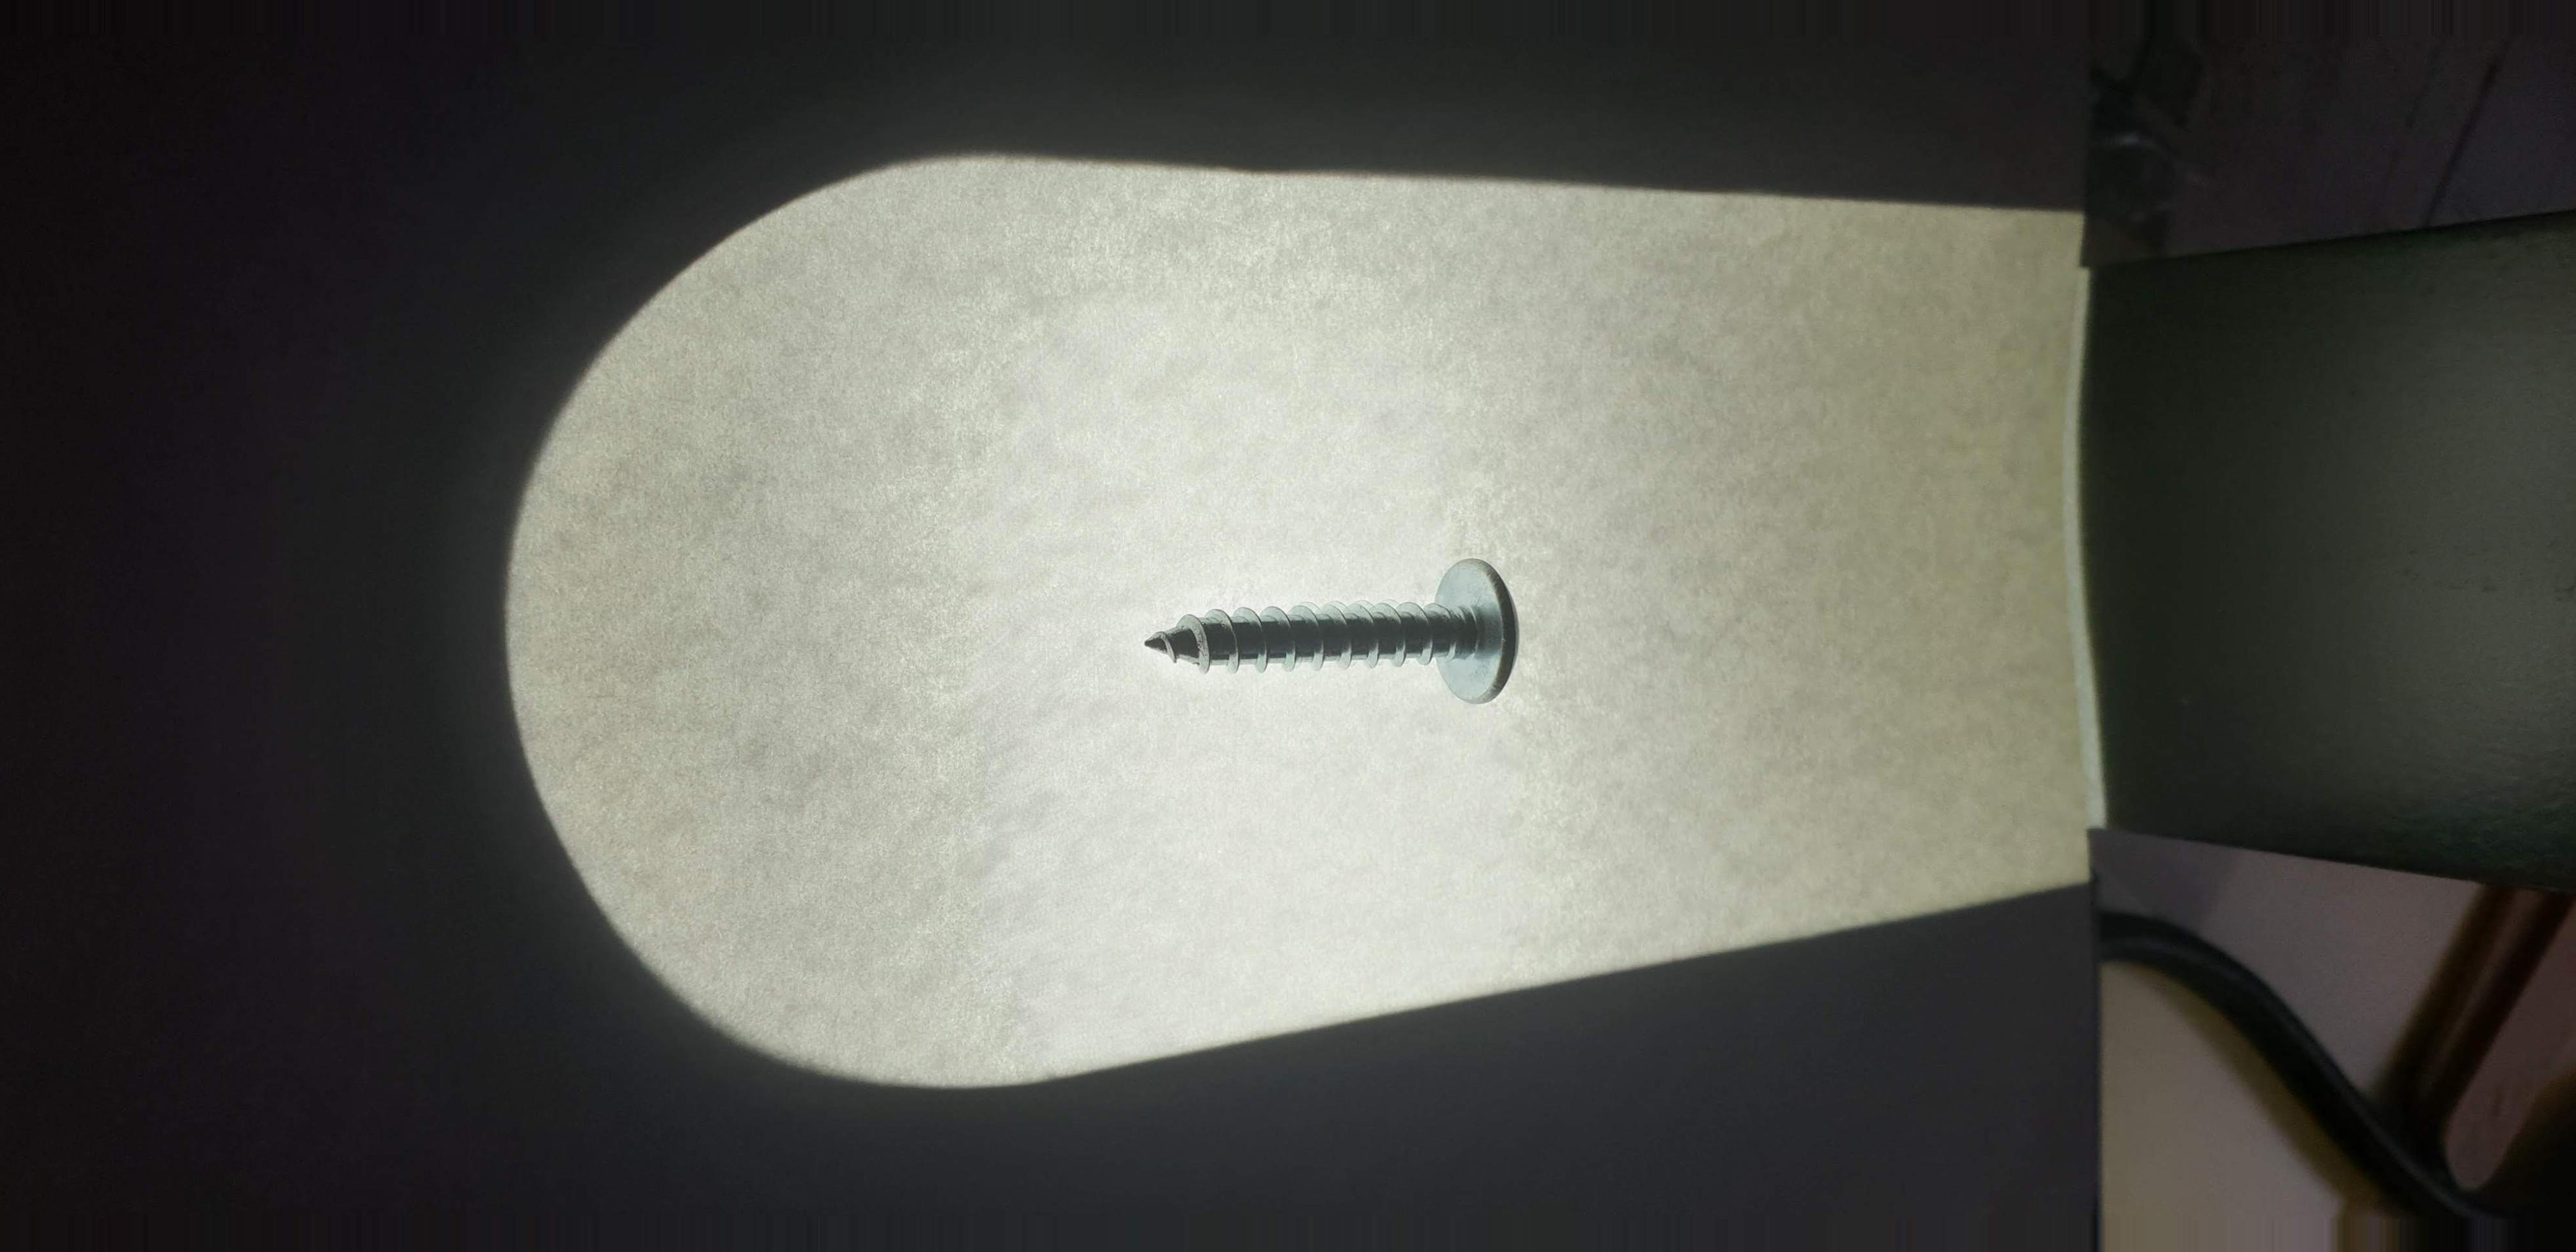S002: (1119, 524, 1579, 756)
